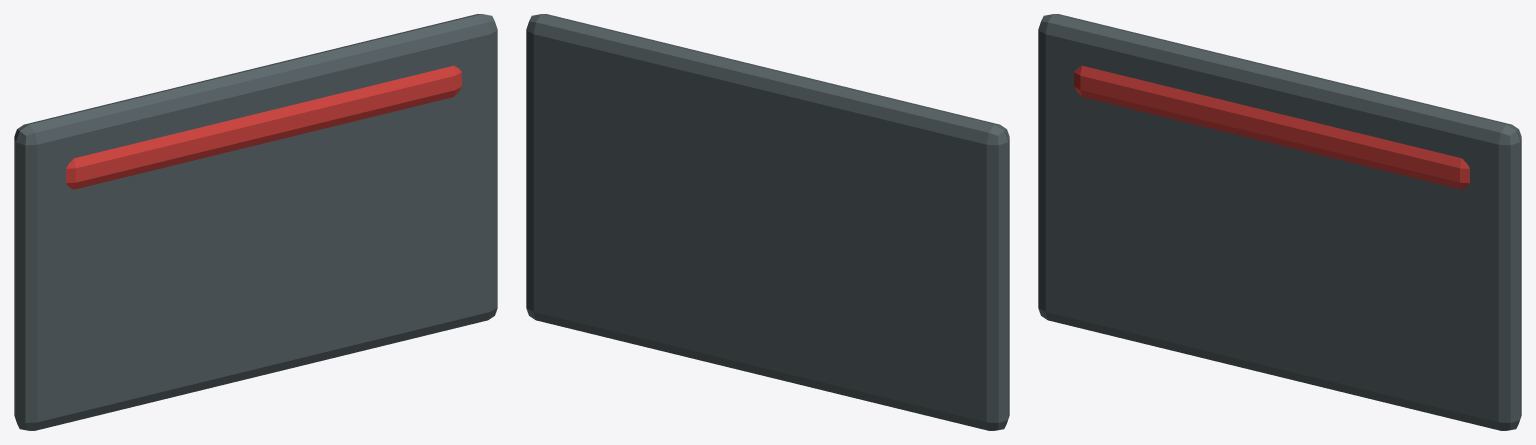
Rendered from BackPlate.fbx.
3 renders of one model, left to right at view 1: azimuth 30°, elevation 25°; view 2: azimuth 150°, elevation 25°; view 3: azimuth 330°, elevation 25°, orthographic.
Visible parts, largest first — view 1: Backplate, Header; view 2: Backplate; view 3: Backplate, Header.
Part boxes in pixels (box(x1,y1,x2,y2)): Backplate: box(14, 14, 497, 430); Header: box(66, 65, 461, 189); Backplate: box(526, 14, 1009, 430); Backplate: box(1038, 14, 1521, 430); Header: box(1074, 65, 1469, 189).
Size of the model in its own units: 1.05 by 0.64 by 0.0675.
